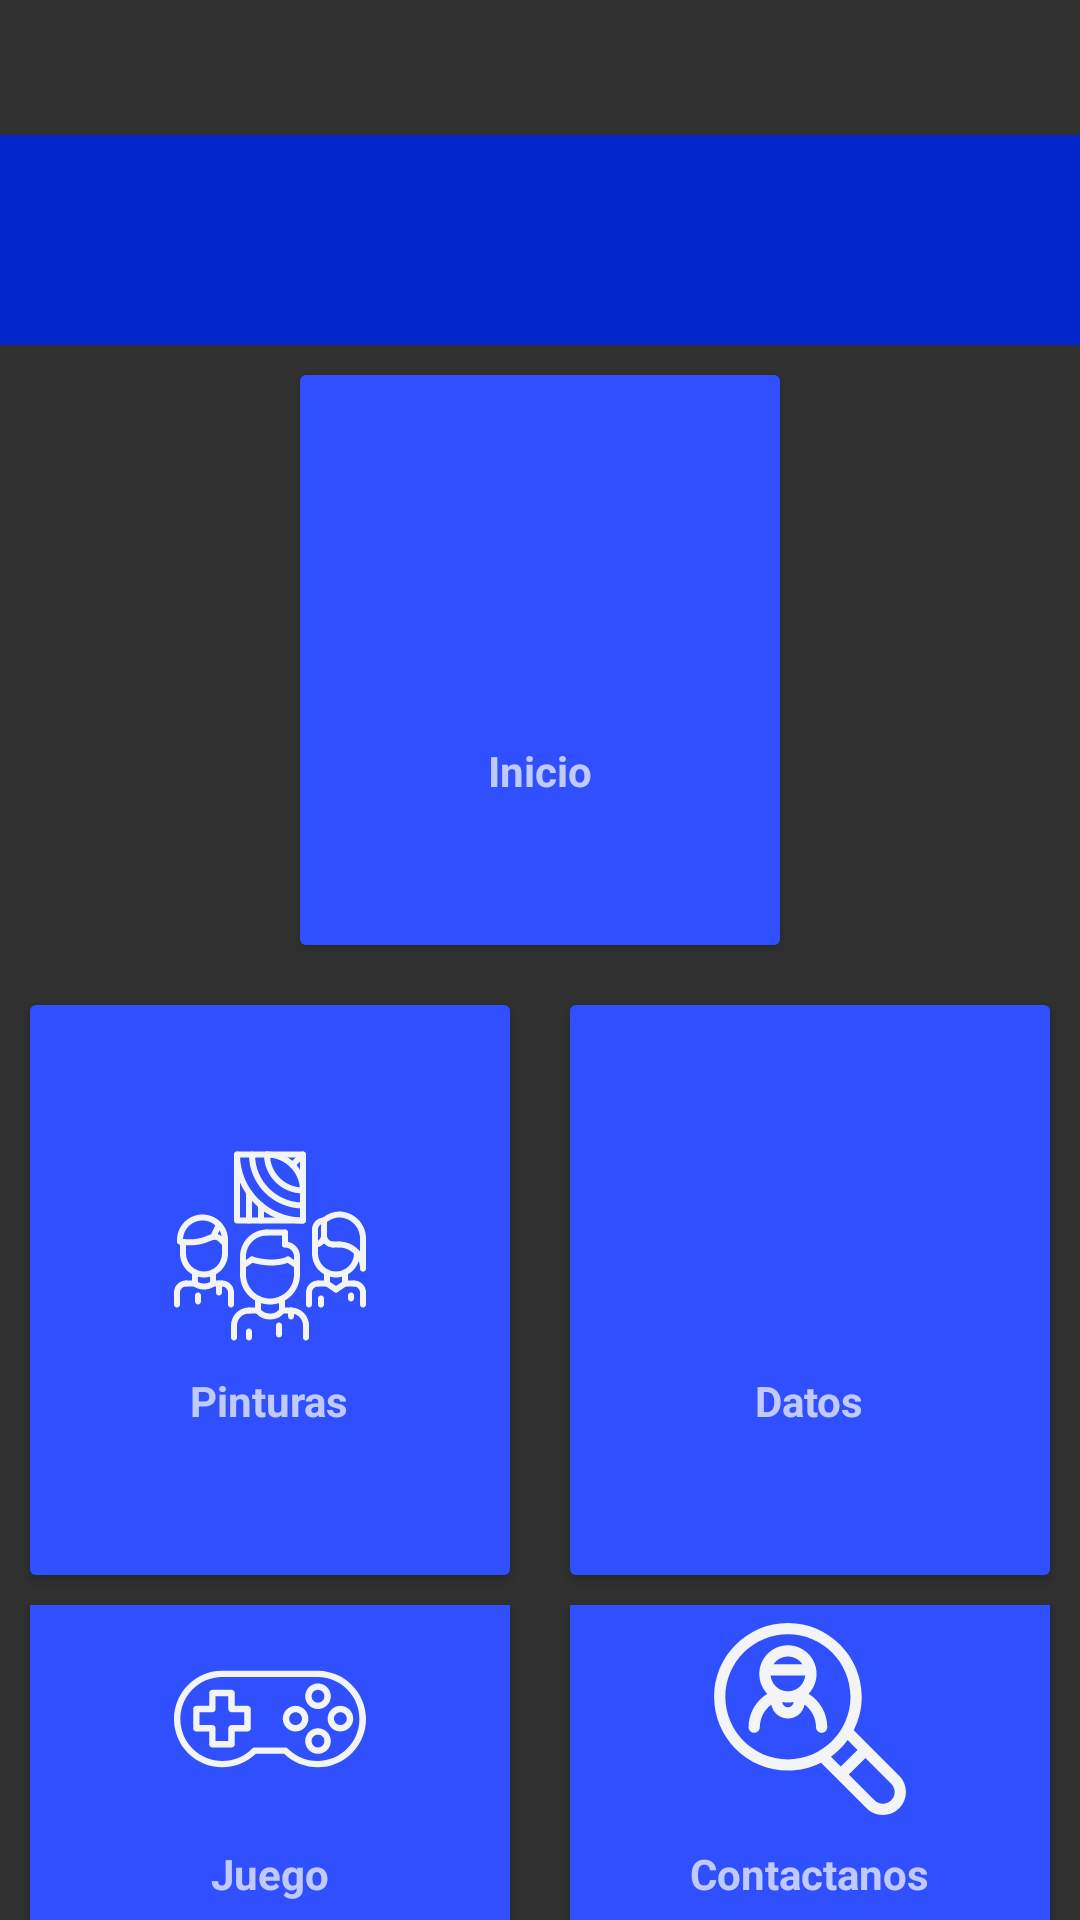

Named icons in this screenshot (1080x1920) and their centers, (x,y):
buscar: (810,1719)
